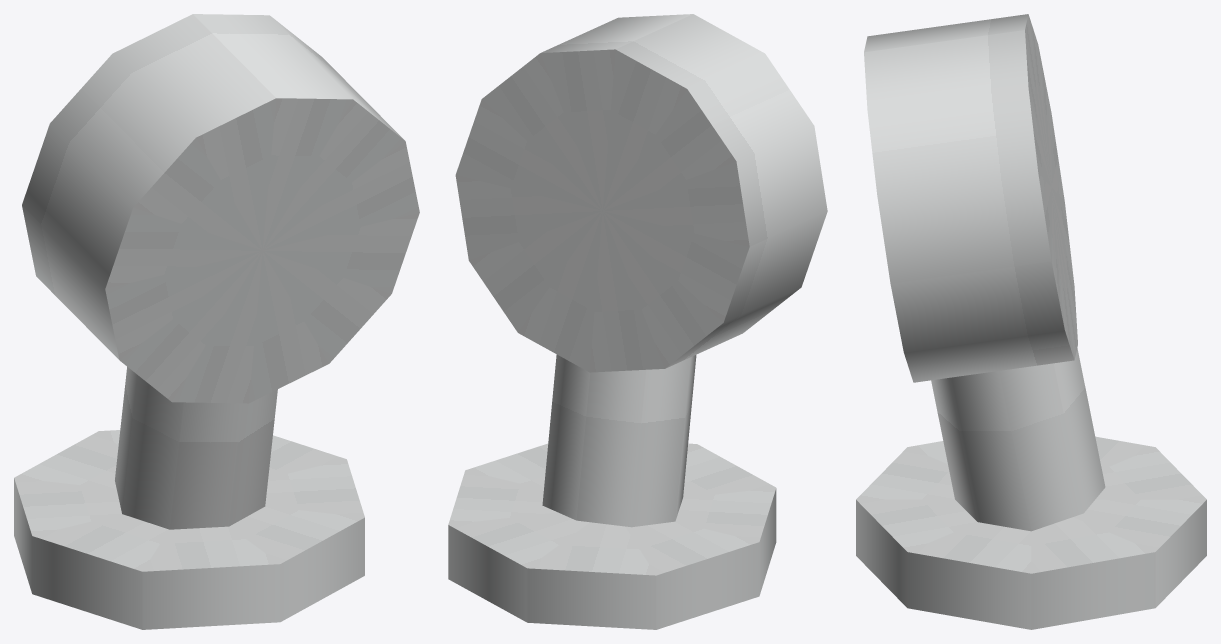
Rendered from trusssignalarm_stub_9.obj.
The picture shows the model from 3 angles, left to right: view 1: azimuth 30°, elevation 25°; view 2: azimuth 150°, elevation 25°; view 3: azimuth 270°, elevation 25°; orthographic projection. The views are drawn at different scales.
Visible parts, largest first — view 1: trusssignalarm_stub_9; view 2: trusssignalarm_stub_9; view 3: trusssignalarm_stub_9.
Part boxes in pixels (x1,y1,x2,y2): trusssignalarm_stub_9: (14,14,419,629); trusssignalarm_stub_9: (448,14,827,629); trusssignalarm_stub_9: (856,14,1206,629).
Bounding box in the file's own units: 0.35 × 0.5785 × 0.35.
